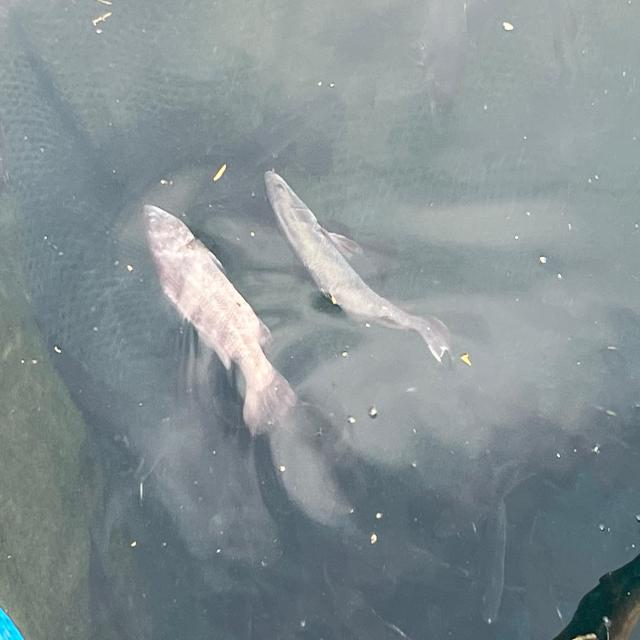ikan: (250, 130, 467, 370), (130, 188, 252, 449)
